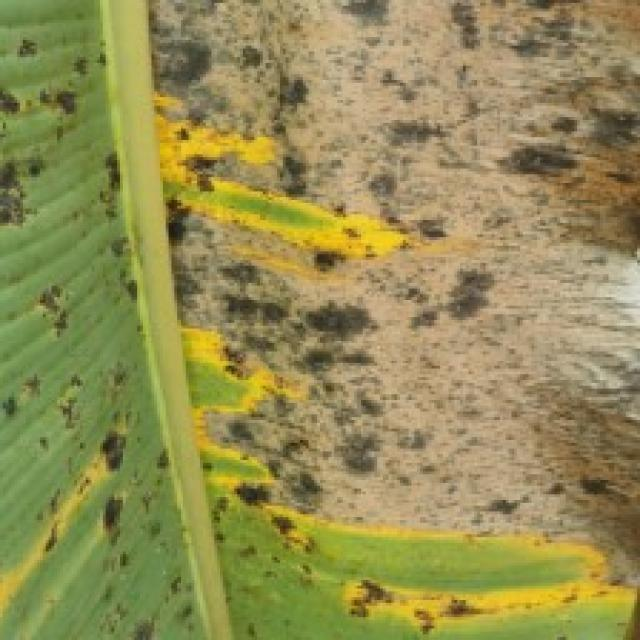Downey_mildrew: (134, 0, 640, 640), (0, 28, 134, 640)
